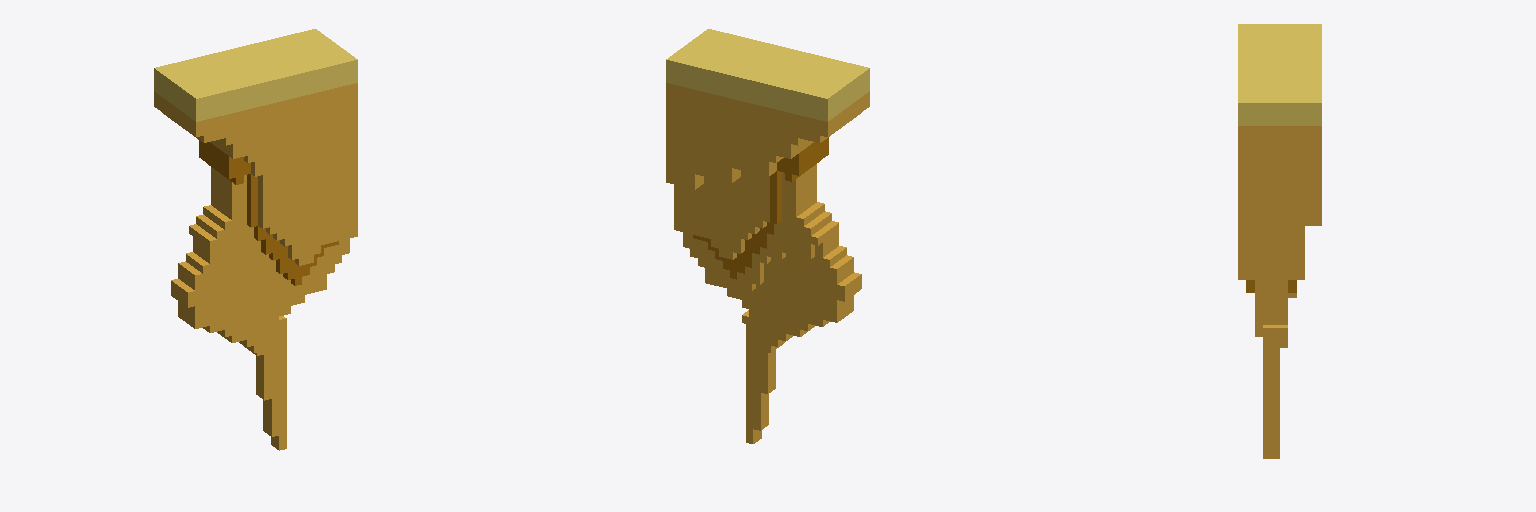
The picture shows the model from 3 angles: view 1: azimuth 30°, elevation 25°; view 2: azimuth 150°, elevation 25°; view 3: azimuth 270°, elevation 25°; orthographic projection.
Bounding box in the file's own units: 22 × 50 × 10.
Materials: 1 (1 with a texture image).